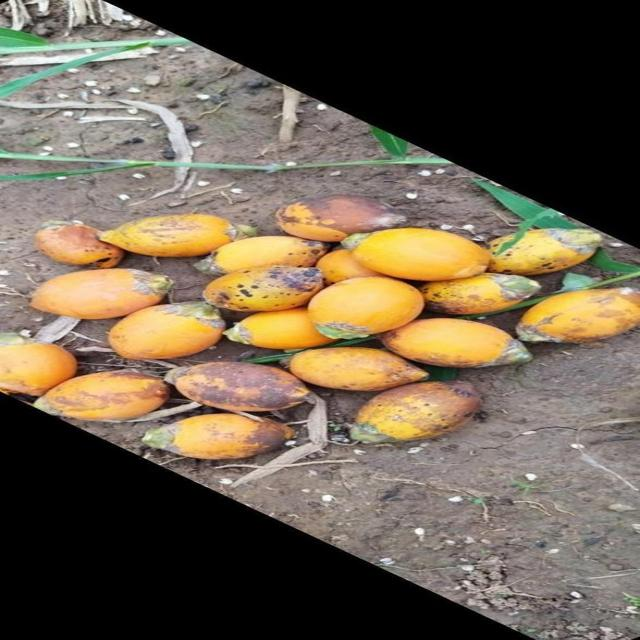good: (28, 370, 181, 427), (353, 382, 481, 444), (379, 318, 530, 370), (169, 362, 311, 415), (29, 268, 168, 322), (309, 278, 426, 342), (354, 228, 492, 282), (147, 412, 292, 461), (288, 346, 429, 394), (516, 290, 639, 344), (108, 304, 222, 362), (276, 196, 407, 244), (98, 214, 234, 260), (204, 266, 329, 314), (416, 274, 546, 318), (487, 228, 602, 277), (205, 266, 320, 313), (217, 236, 334, 278), (226, 311, 331, 352), (35, 222, 124, 270), (0, 344, 79, 398), (319, 242, 381, 287), (619, 289, 639, 306)
